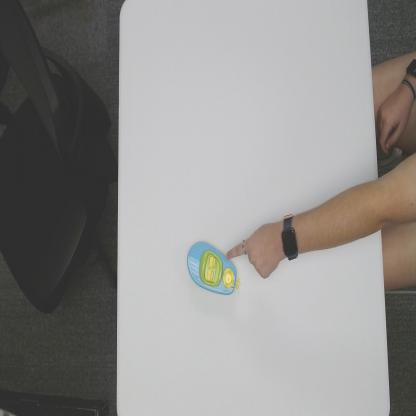Arm: (300, 179, 381, 252)
Boat: (187, 238, 241, 298)
Hand: (225, 216, 280, 281)
